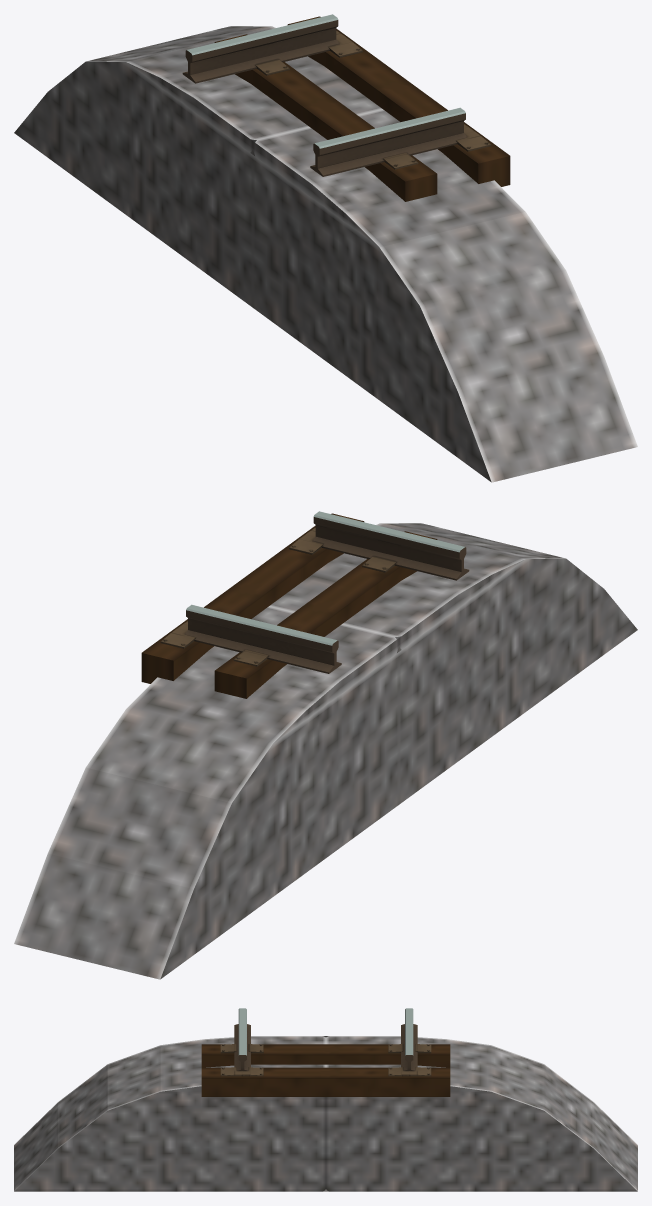
File: spsf_tracks_wideballast.obj
The picture shows the model from 3 angles, top to bottom: view 1: azimuth 30°, elevation 25°; view 2: azimuth 150°, elevation 25°; view 3: azimuth 270°, elevation 25°; orthographic projection. The views are drawn at different scales.
Parts seen in each view (by area): view 1: RAIL_BASE_Cube.001, RAIL_RIGHT_Cube.010, RAIL_LEFT_Cube.002, RAIL_BASE.003_RAIL_BASE.006, RAIL_BASE.002_RAIL_BASE.007, RAIL_BASE.004_RAIL_BASE.008, RAIL_BASE.005_Cube.003; view 2: RAIL_BASE_Cube.001, RAIL_LEFT_Cube.002, RAIL_RIGHT_Cube.010, RAIL_BASE.003_RAIL_BASE.006, RAIL_BASE.002_RAIL_BASE.007, RAIL_BASE.004_RAIL_BASE.008, RAIL_BASE.005_Cube.003; view 3: RAIL_BASE_Cube.001, RAIL_BASE.003_RAIL_BASE.006, RAIL_BASE.002_RAIL_BASE.007, RAIL_BASE.004_RAIL_BASE.008, RAIL_BASE.005_Cube.003, RAIL_LEFT_Cube.002, RAIL_RIGHT_Cube.010.
Part boxes in pixels (<box>): RAIL_BASE_Cube.001: <box>14,26,637,482</box>; RAIL_RIGHT_Cube.010: <box>182,14,339,83</box>; RAIL_LEFT_Cube.002: <box>310,107,466,176</box>; RAIL_BASE.003_RAIL_BASE.006: <box>214,24,478,201</box>; RAIL_BASE.002_RAIL_BASE.007: <box>288,16,510,186</box>; RAIL_BASE.004_RAIL_BASE.008: <box>215,34,437,201</box>; RAIL_BASE.005_Cube.003: <box>255,31,491,169</box>; RAIL_BASE_Cube.001: <box>14,523,637,979</box>; RAIL_LEFT_Cube.002: <box>312,511,469,580</box>; RAIL_RIGHT_Cube.010: <box>185,604,341,673</box>; RAIL_BASE.003_RAIL_BASE.006: <box>173,521,437,698</box>; RAIL_BASE.002_RAIL_BASE.007: <box>141,513,363,683</box>; RAIL_BASE.004_RAIL_BASE.008: <box>214,531,436,698</box>; RAIL_BASE.005_Cube.003: <box>160,528,396,666</box>; RAIL_BASE_Cube.001: <box>14,1036,637,1191</box>; RAIL_BASE.003_RAIL_BASE.006: <box>201,1054,450,1096</box>; RAIL_BASE.002_RAIL_BASE.007: <box>201,1067,450,1077</box>; RAIL_BASE.004_RAIL_BASE.008: <box>201,1044,450,1054</box>; RAIL_BASE.005_Cube.003: <box>220,1044,431,1076</box>; RAIL_LEFT_Cube.002: <box>234,1008,250,1070</box>; RAIL_RIGHT_Cube.010: <box>401,1008,417,1070</box>.
Bounding box in the file's own units: 1.11 × 1.37 × 5.66.
Materials: 1 (1 with a texture image).
